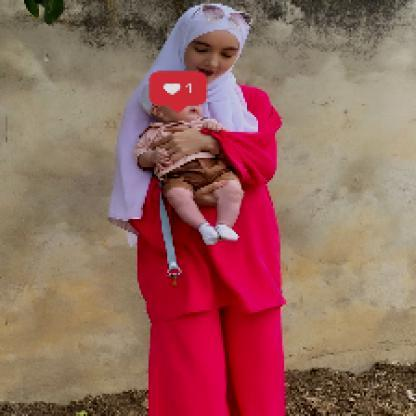child: (134, 81, 246, 246)
